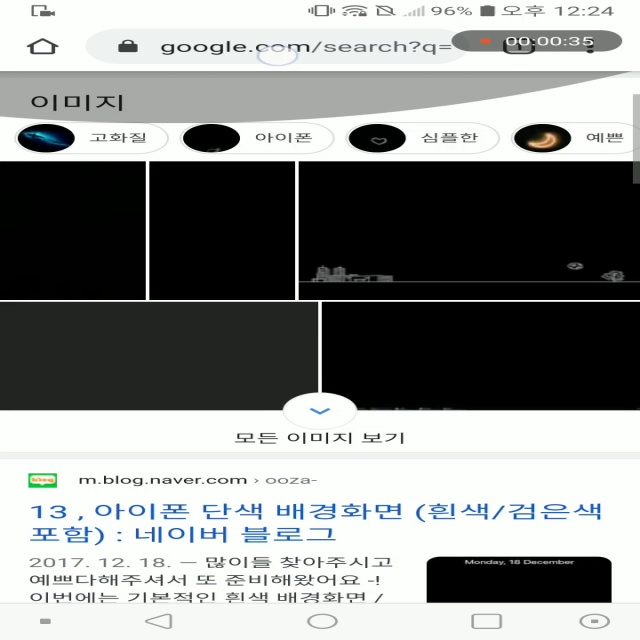Cursor: (256, 45, 301, 67)
